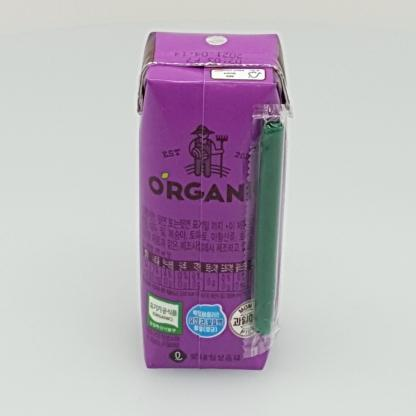---------------: (137, 31, 293, 371)
